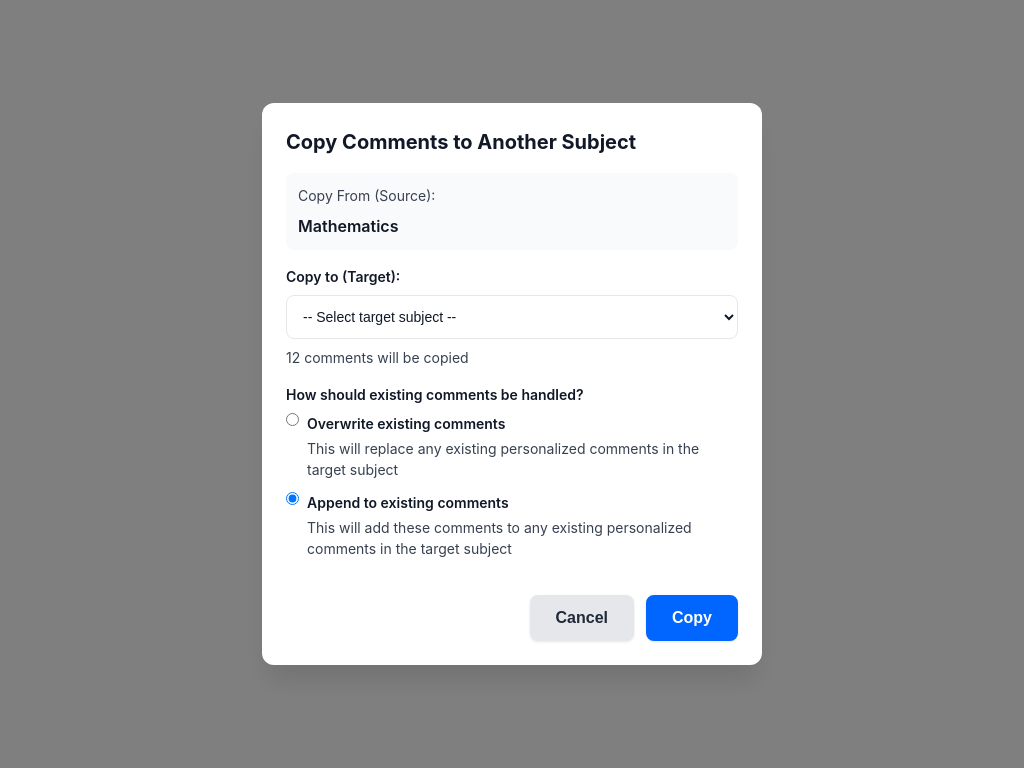
Scenario: CopyCommentsModal - API Integration (US-CP-004) › AC-4.1: Copy Button Submission › should show loading state while copying
// Select target and click copy
Select "Physics" in the dropdown labelled "Copy to (Target):" at (512, 317), box left=286, top=295, right=738, bottom=339
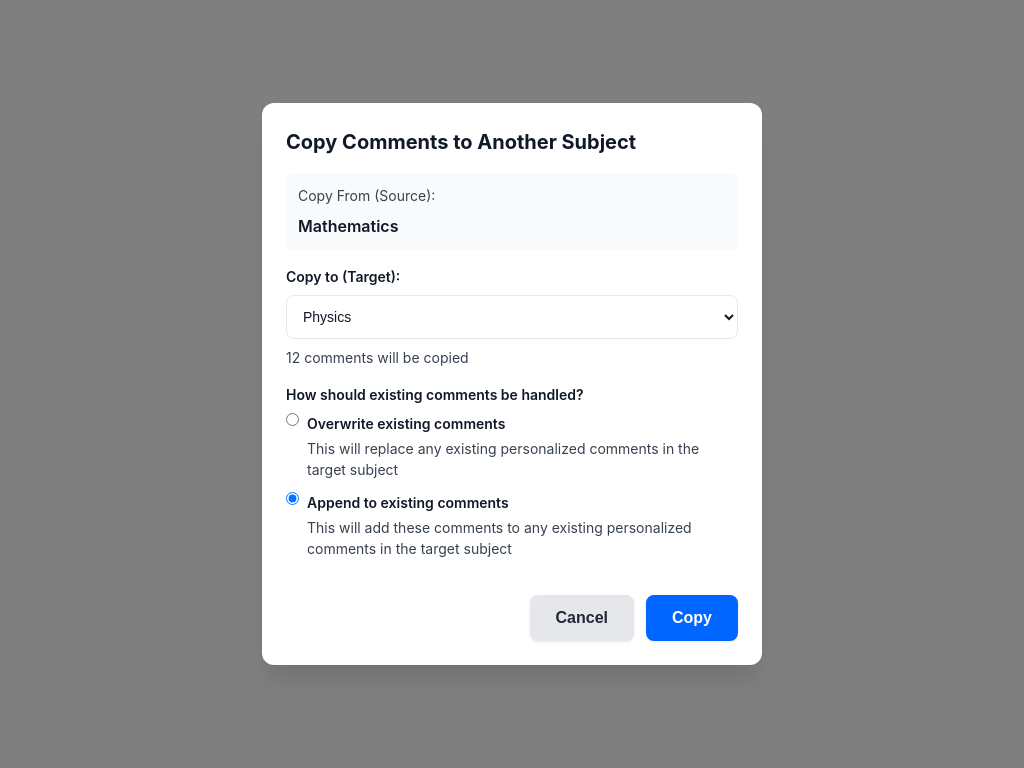
Click the button "Copy" at (692, 618), box left=646, top=595, right=738, bottom=641
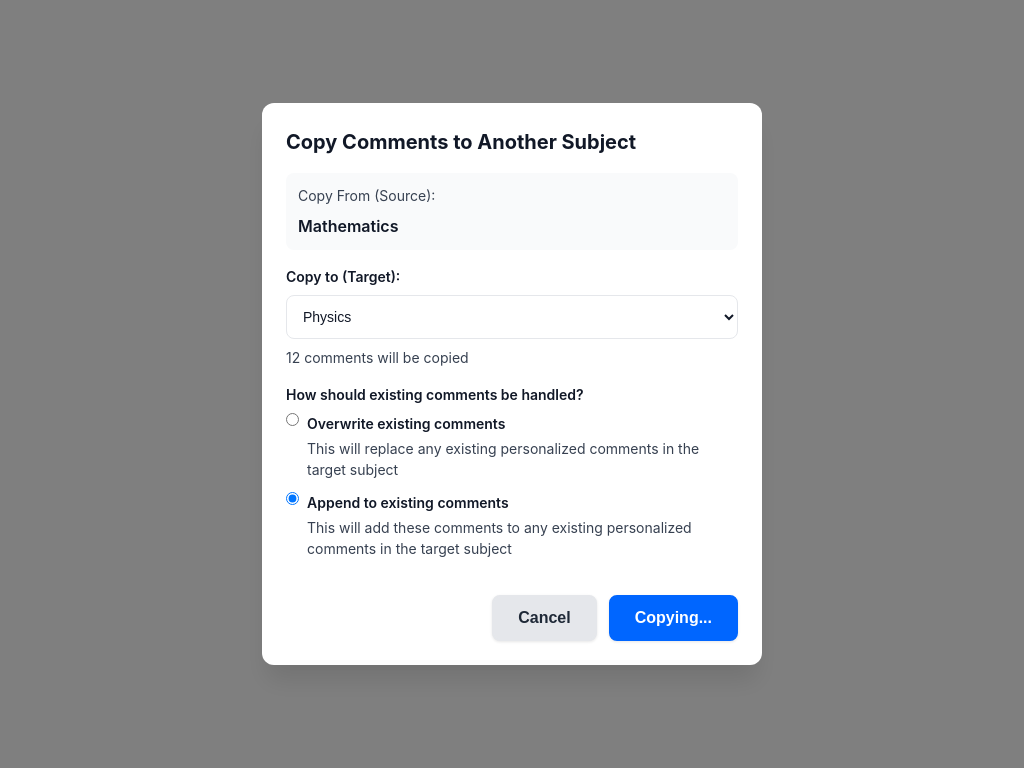
Now the button "Copying..." is disabled, box left=609, top=595, right=738, bottom=641
